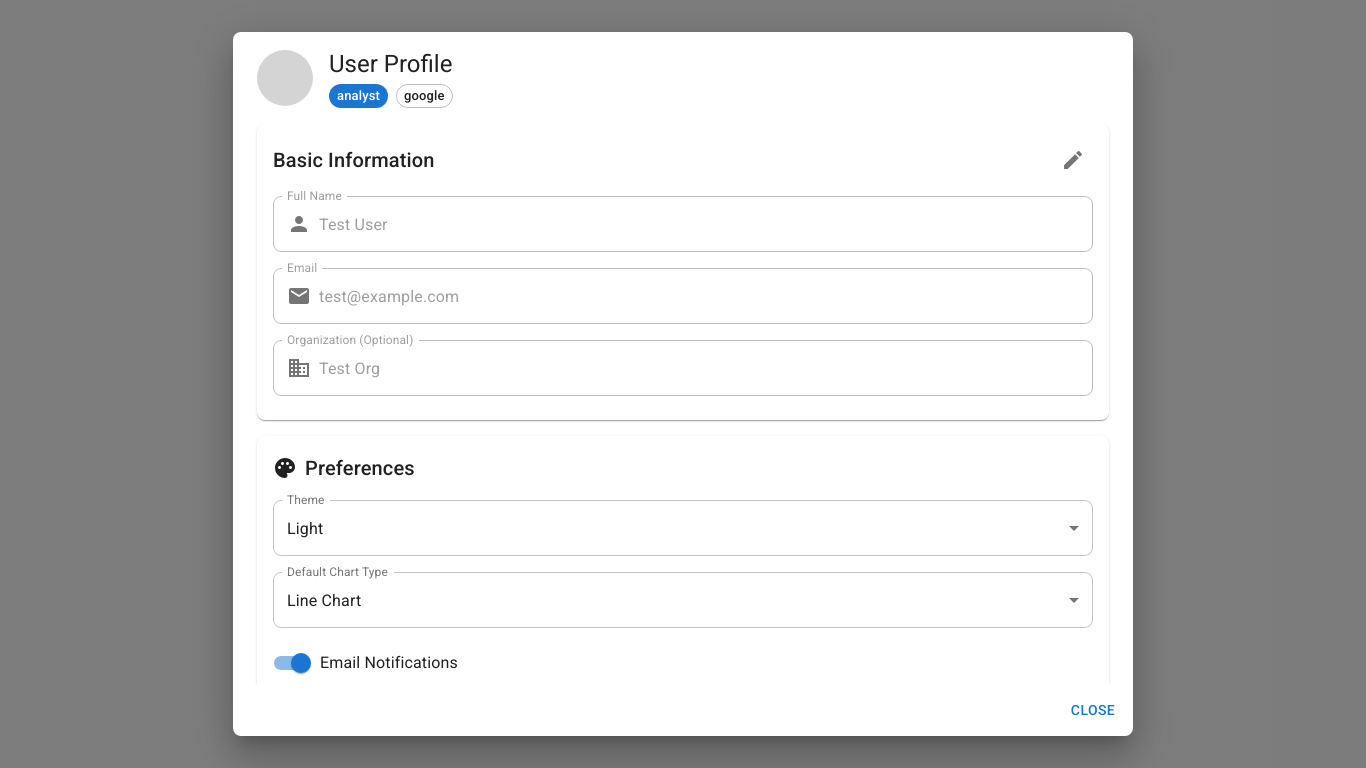
Test: UserProfile Preferences › should show all available theme options
Press the mouse on the dropdown named "Theme" at (305, 528), box [287, 518, 323, 538]
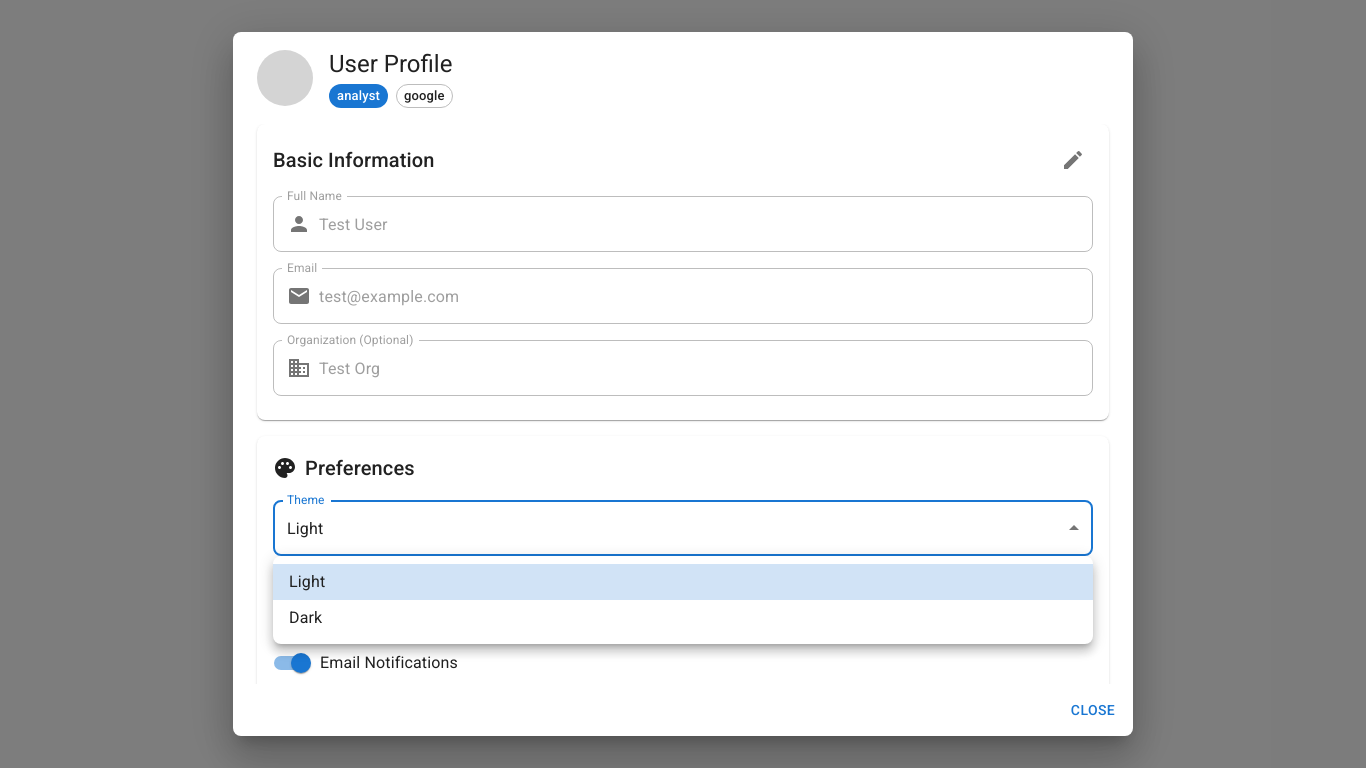
Check: the number of dropdowns "Light" is 2, box [287, 518, 323, 538]; [273, 564, 1093, 600]
Check: the option "Dark" is shown, box [289, 608, 322, 627]
